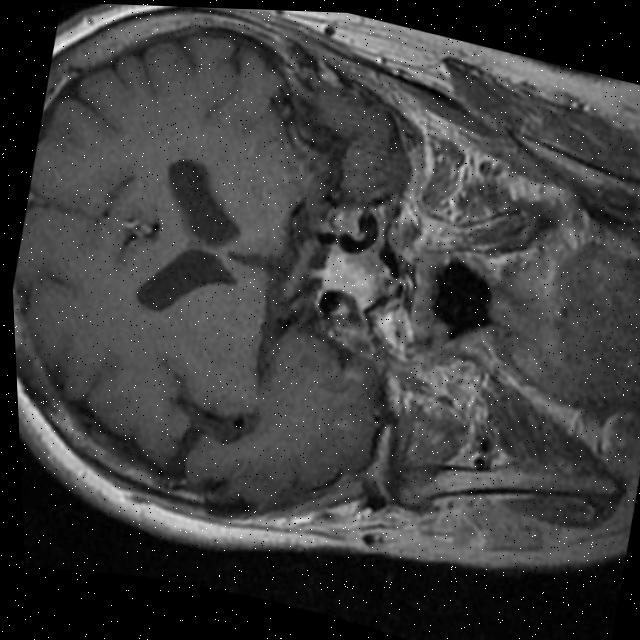Pituitary: (302, 236, 406, 315)
